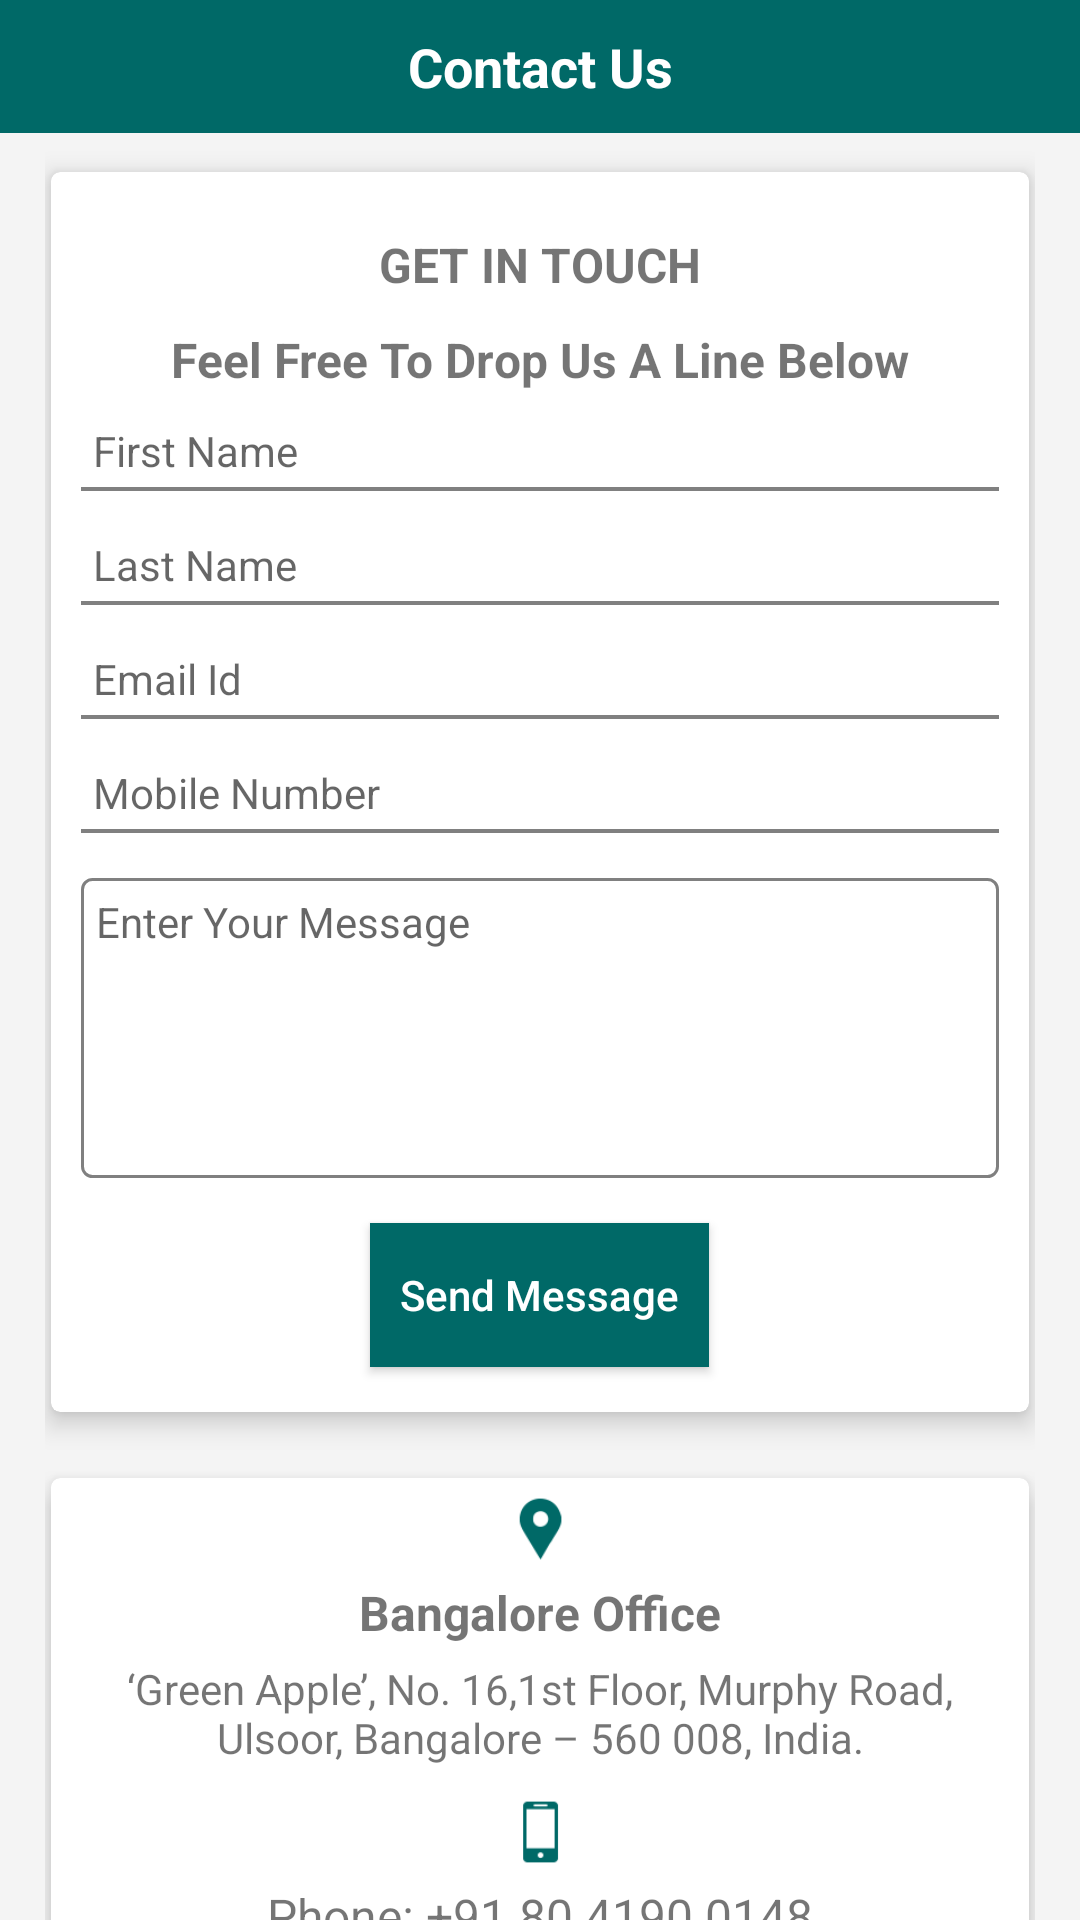

Point at icon controls on the screen. Image size 1080w x 1920h, points as (x=x, y=y).
location: (x=540, y=1529)
